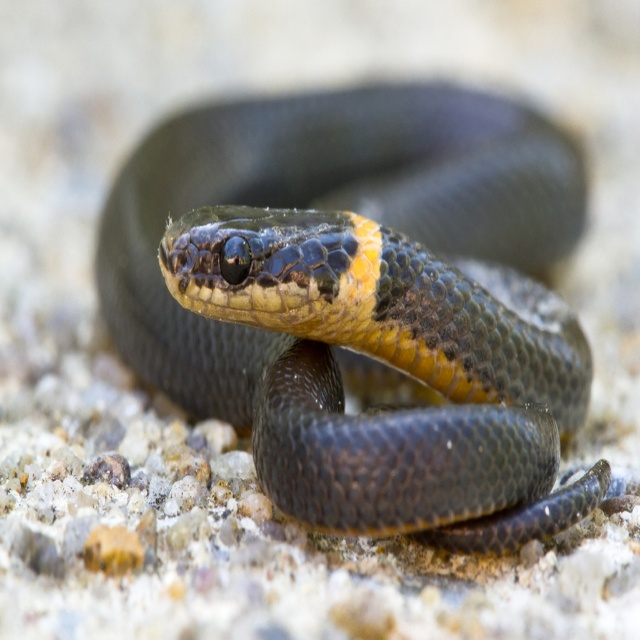Snake: (92, 79, 611, 544)
